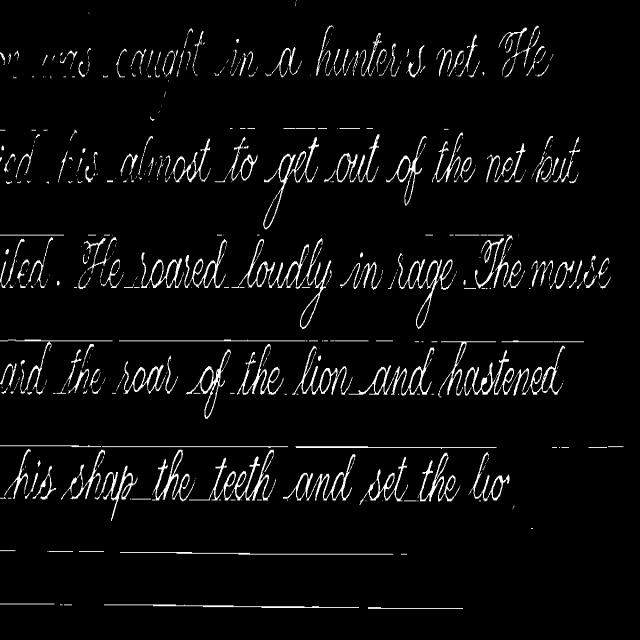noise: (102, 601, 462, 612), (44, 549, 394, 558), (0, 120, 41, 184), (0, 444, 290, 451), (32, 48, 92, 78), (116, 338, 318, 344), (0, 51, 20, 105), (416, 340, 584, 346), (295, 445, 496, 450), (448, 233, 512, 244), (280, 125, 374, 132), (0, 233, 65, 243), (0, 338, 116, 343), (0, 602, 74, 607), (576, 444, 624, 450), (222, 284, 244, 293), (230, 126, 258, 132), (464, 279, 476, 292), (104, 177, 122, 184), (550, 445, 570, 450), (124, 281, 134, 289), (187, 498, 210, 501), (0, 549, 16, 553), (348, 391, 360, 396), (44, 179, 52, 186), (425, 230, 434, 236), (322, 340, 369, 341), (400, 551, 409, 556), (131, 498, 151, 500), (443, 126, 450, 131), (102, 74, 109, 78), (88, 233, 96, 236), (216, 233, 224, 236), (256, 233, 260, 236), (215, 180, 225, 181)
not-noise: (340, 234, 610, 329), (188, 343, 352, 416), (366, 346, 564, 396), (264, 133, 386, 210), (316, 26, 487, 78), (116, 28, 204, 118), (384, 132, 477, 205), (0, 340, 117, 395), (358, 452, 462, 504), (60, 449, 136, 519), (485, 136, 580, 184), (133, 240, 226, 287), (120, 137, 210, 182), (250, 238, 333, 286), (0, 236, 66, 288), (282, 454, 356, 500), (210, 454, 278, 500), (497, 26, 554, 78), (0, 449, 58, 500), (74, 236, 124, 288), (110, 358, 176, 393), (58, 131, 98, 182), (468, 452, 510, 500), (154, 450, 191, 500), (264, 169, 288, 229), (266, 46, 306, 76), (235, 138, 259, 180), (300, 287, 323, 328), (226, 48, 254, 76)
